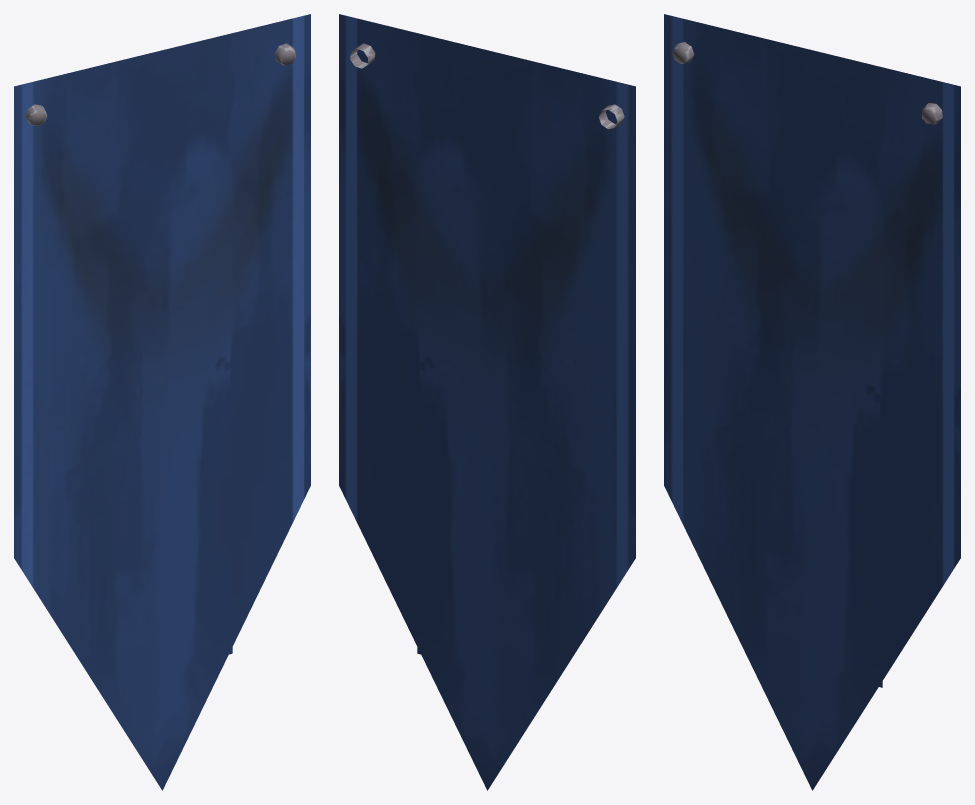
Rendered from Banner_2_Cloth.gltf.
The picture shows the model from 3 angles, left to right: view 1: azimuth 30°, elevation 25°; view 2: azimuth 150°, elevation 25°; view 3: azimuth 330°, elevation 25°; orthographic projection.
Parts seen in each view (by area): view 1: Banner_2_Cloth; view 2: Banner_2_Cloth; view 3: Banner_2_Cloth.
Part boxes in pixels (<box>): Banner_2_Cloth: <box>14,14,310,790</box>; Banner_2_Cloth: <box>339,14,635,790</box>; Banner_2_Cloth: <box>664,14,960,790</box>.
Bounding box in the file's own units: 0.8102 × 1.93 × 0.0568.
2 materials, 2 textured.
